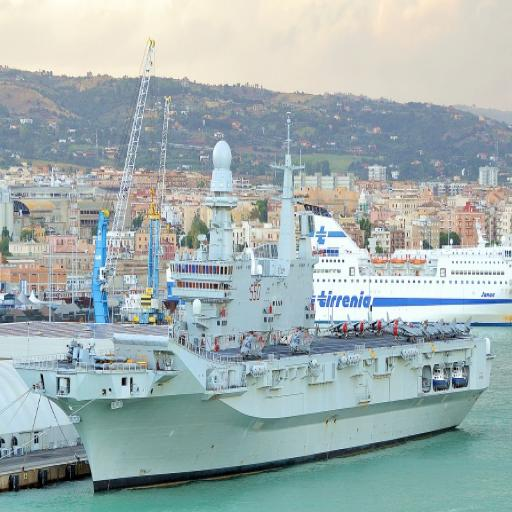Portanaves: (13, 212, 498, 502)
